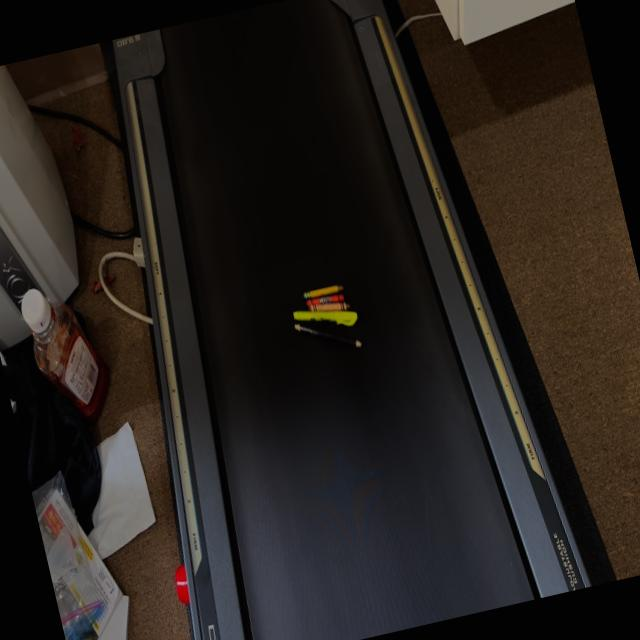Trash: (277, 263, 378, 364)
